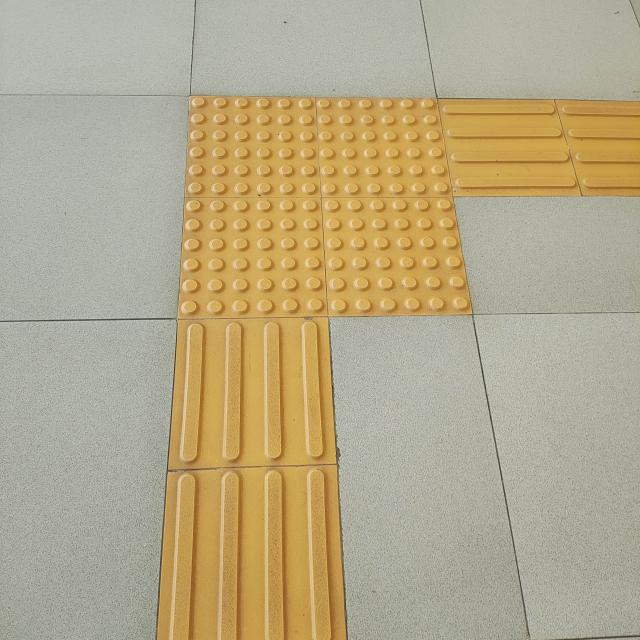kanan: (103, 35, 640, 422)
